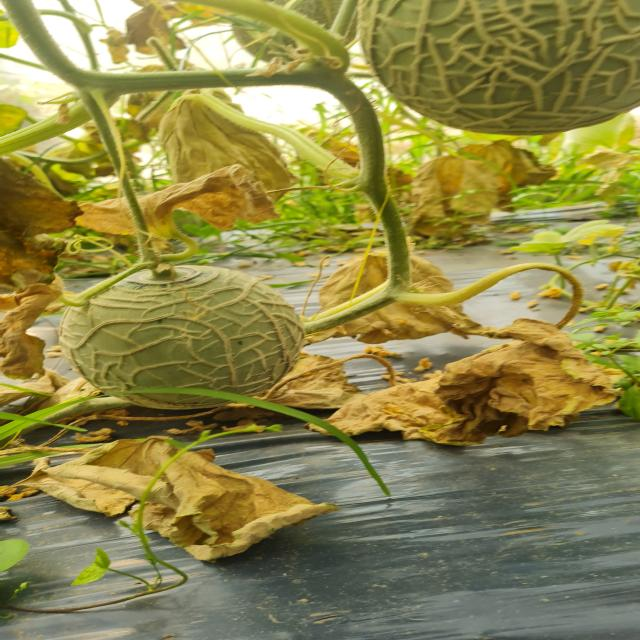melon: (358, 0, 640, 135), (60, 265, 304, 395)
